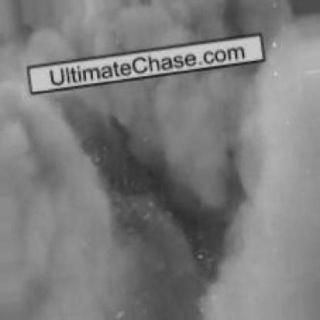Smoke: (7, 3, 307, 304)
